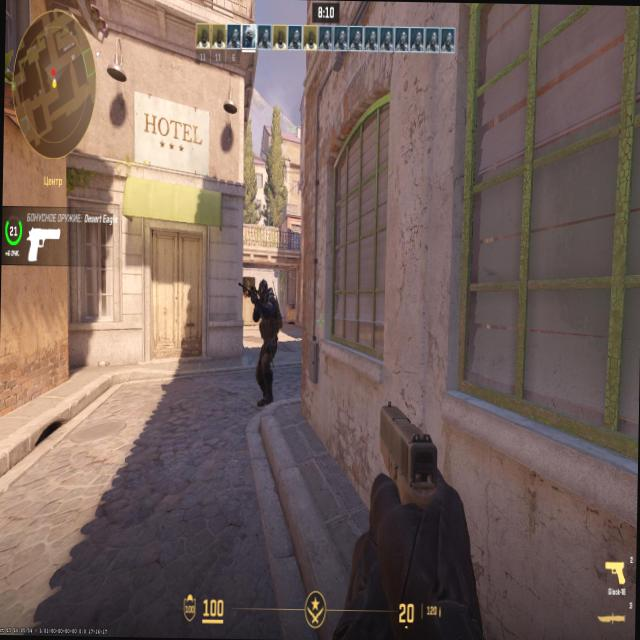CT: (254, 285, 275, 402)
CT_heat: (260, 281, 267, 302)
